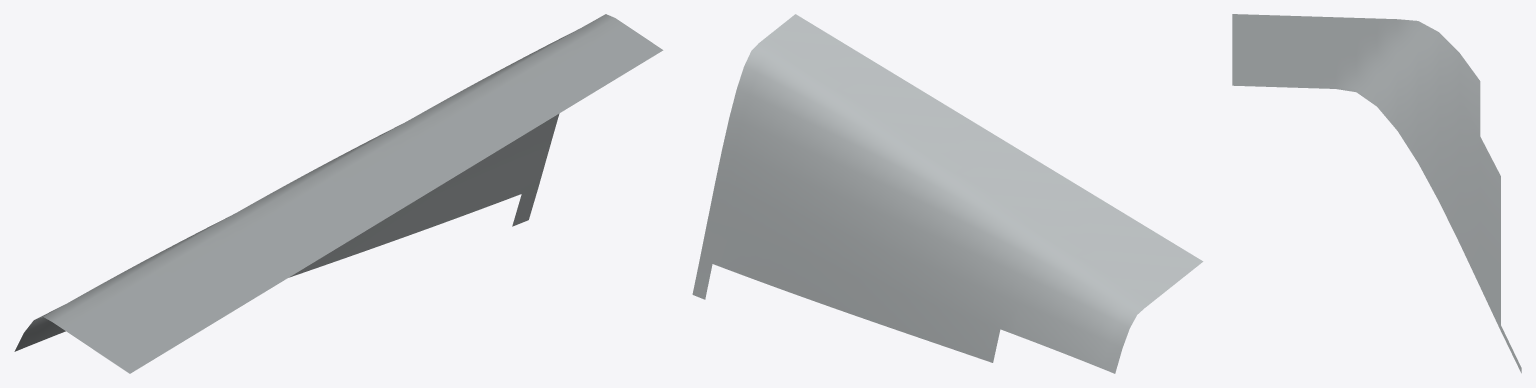
File: alpine-11-11.glb
3 views of the same model, side by side, from view 1: azimuth 30°, elevation 25°; view 2: azimuth 150°, elevation 25°; view 3: azimuth 270°, elevation 25° (orthographic). The views are drawn at different scales.
Visible parts, largest first — view 1: alpine-11-11; view 2: alpine-11-11; view 3: alpine-11-11.
Boxes of the visible parts, x1,y1,x2,y2 form: alpine-11-11: [14, 14, 663, 373]; alpine-11-11: [692, 14, 1203, 373]; alpine-11-11: [1232, 14, 1521, 373].
Size of the model in its own units: 256 by 124 by 112.
1 material, 1 textured.
